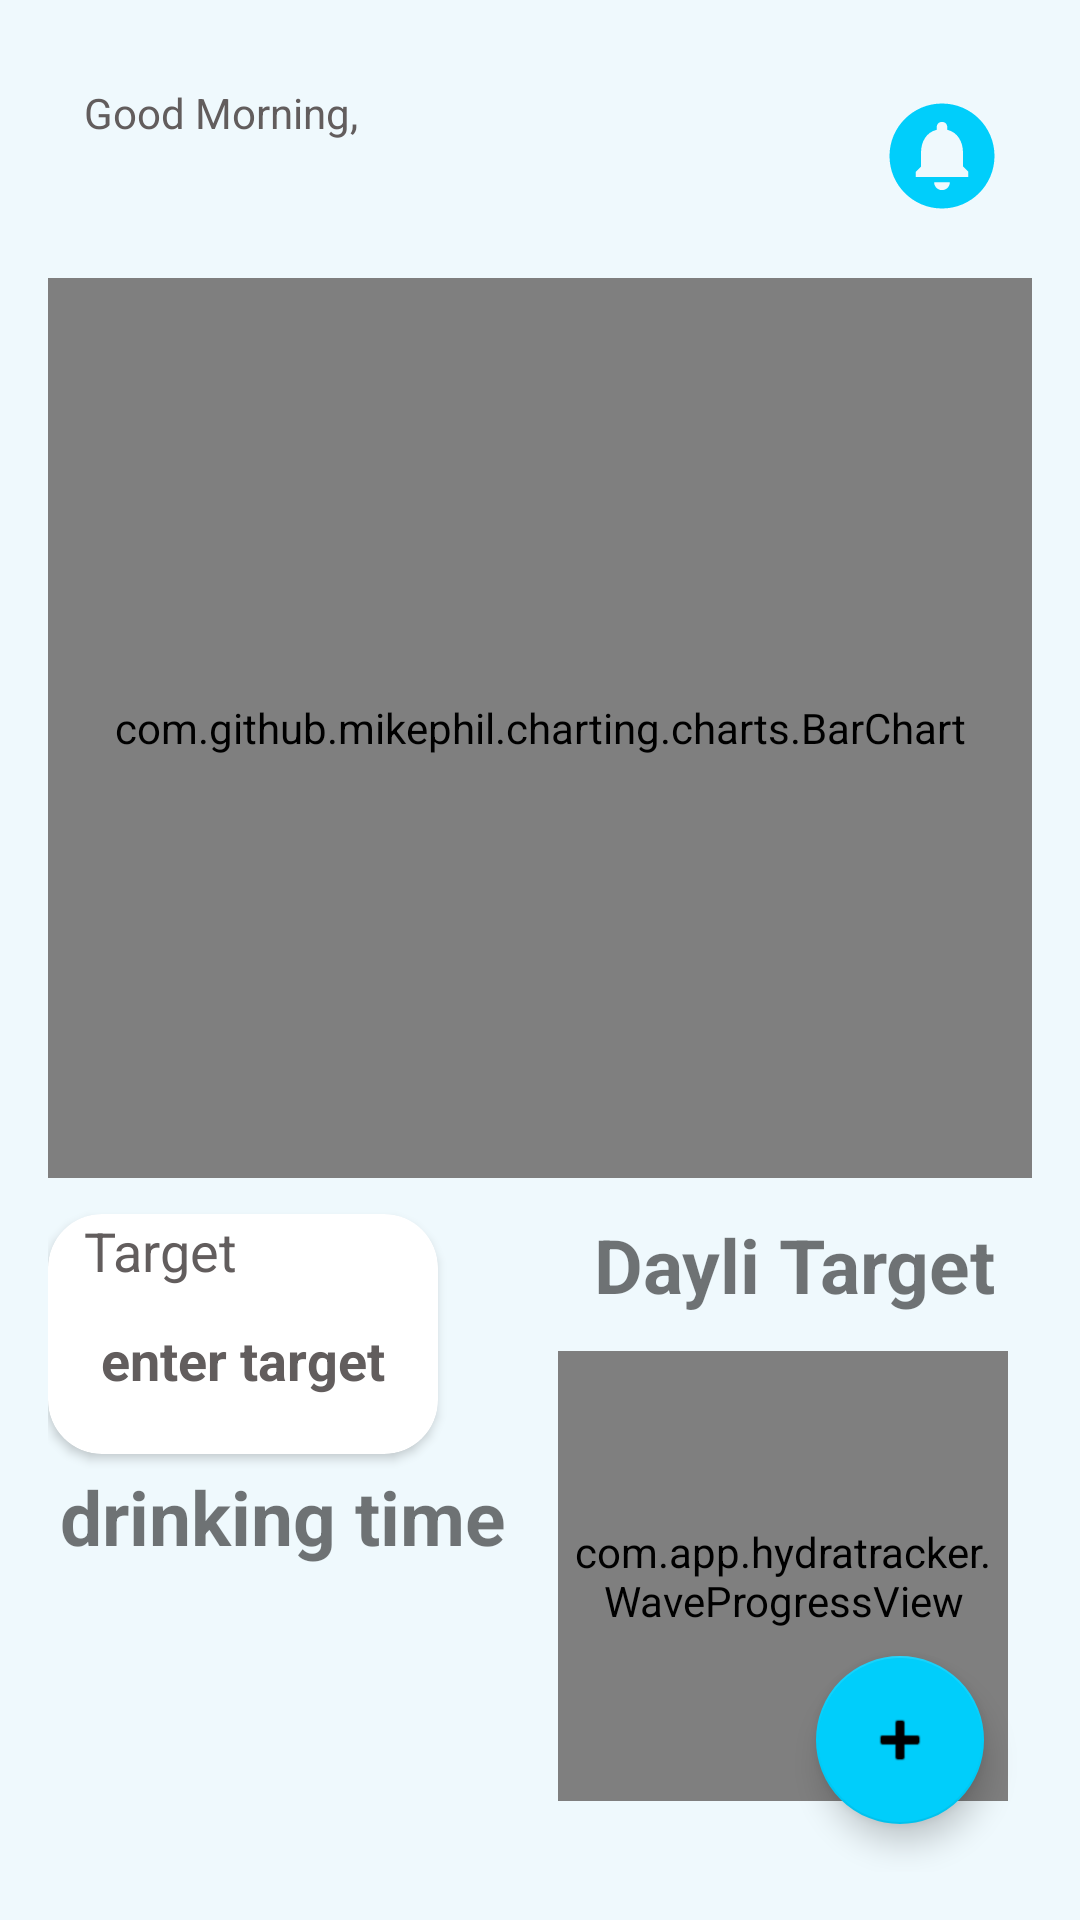

Icons on this 1080 × 1920 Android screen, each with its box as (x1, y1, x2, y2):
add: (816, 1656, 984, 1824)
circle notifications: (889, 103, 995, 209)
